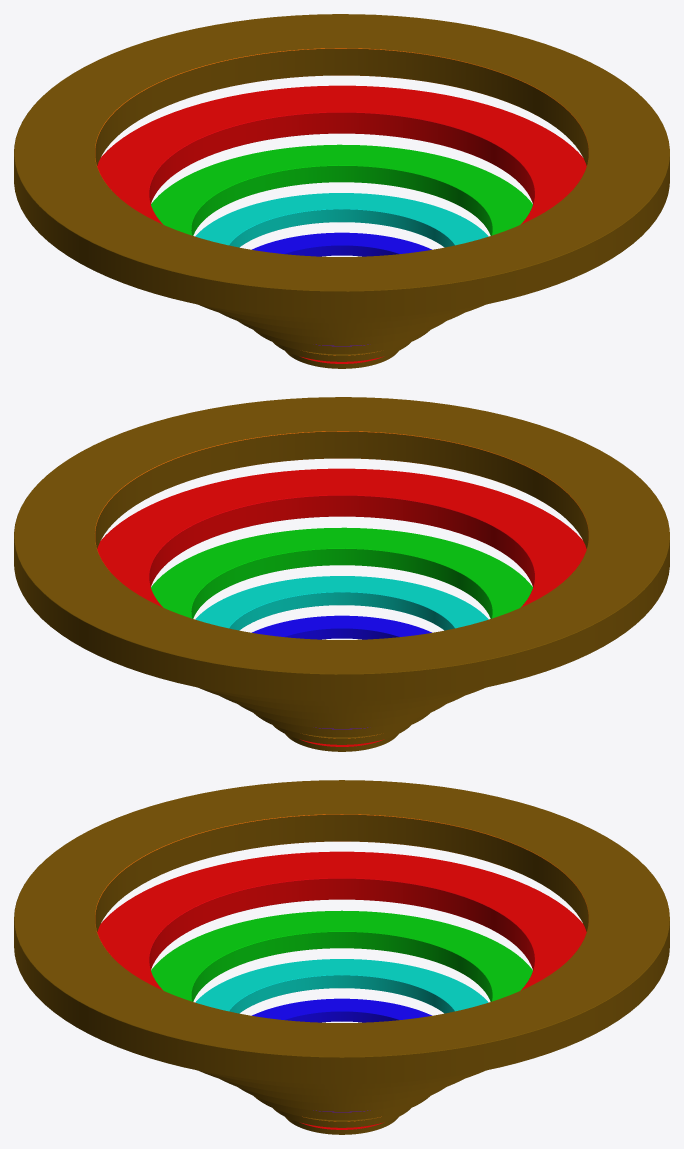
Rendered from Vortex.FBX.
3 views of the same model, one above another, from view 1: azimuth 30°, elevation 25°; view 2: azimuth 150°, elevation 25°; view 3: azimuth 270°, elevation 25° (orthographic).
Visible parts, largest first — view 1: Tube001, Tube002, Tube003, Tube004, Tube005, Tube006, Tube007, Tube008; view 2: Tube001, Tube002, Tube003, Tube004, Tube005, Tube006, Tube007, Tube008; view 3: Tube001, Tube002, Tube003, Tube004, Tube005, Tube006, Tube007, Tube008.
Part boxes in pixels (<box>): Tube001: <box>14,14,669,318</box>; Tube002: <box>97,85,586,323</box>; Tube003: <box>151,144,532,330</box>; Tube004: <box>195,193,488,337</box>; Tube005: <box>238,232,445,345</box>; Tube006: <box>254,330,429,354</box>; Tube007: <box>273,342,410,361</box>; Tube008: <box>285,351,398,368</box>; Tube001: <box>14,397,669,701</box>; Tube002: <box>97,468,586,706</box>; Tube003: <box>151,527,532,713</box>; Tube004: <box>195,576,488,720</box>; Tube005: <box>238,615,445,728</box>; Tube006: <box>254,713,429,737</box>; Tube007: <box>273,725,410,744</box>; Tube008: <box>285,734,398,751</box>; Tube001: <box>14,780,669,1084</box>; Tube002: <box>97,851,586,1089</box>; Tube003: <box>151,910,532,1096</box>; Tube004: <box>195,959,488,1103</box>; Tube005: <box>238,998,445,1111</box>; Tube006: <box>254,1096,429,1120</box>; Tube007: <box>273,1108,410,1127</box>; Tube008: <box>285,1117,398,1134</box>.
Size of the model in its own units: 1925 by 1925 by 679.
